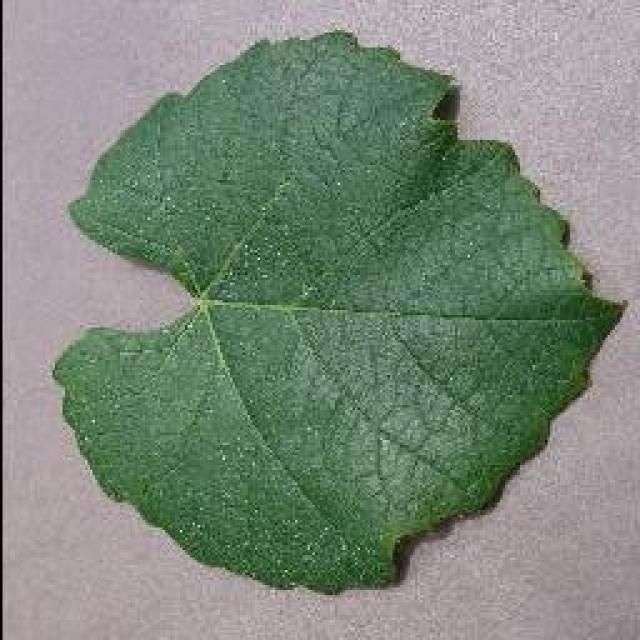Grape___healthy: (39, 19, 635, 605)
